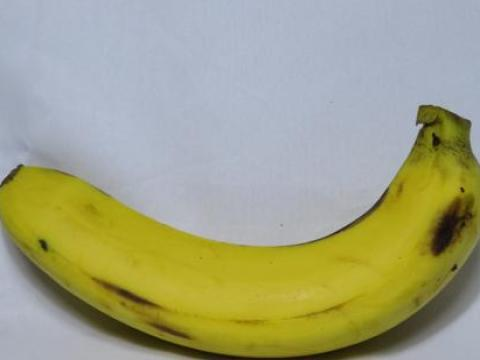freshripe: (0, 86, 479, 359)
